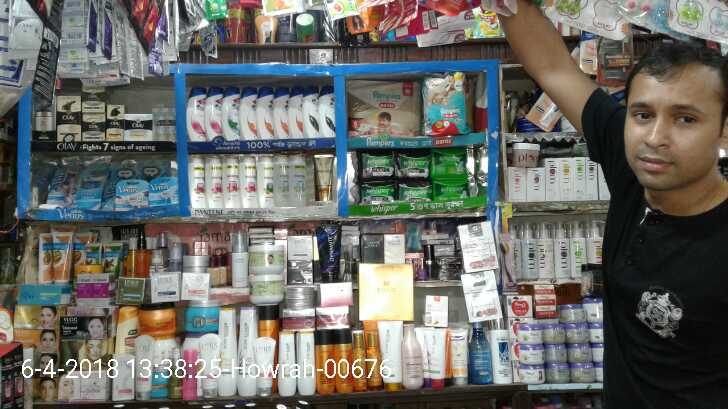venus: (76, 157, 107, 208), (46, 156, 75, 206), (117, 180, 149, 211), (150, 178, 178, 205), (138, 159, 171, 177), (114, 159, 136, 178)
